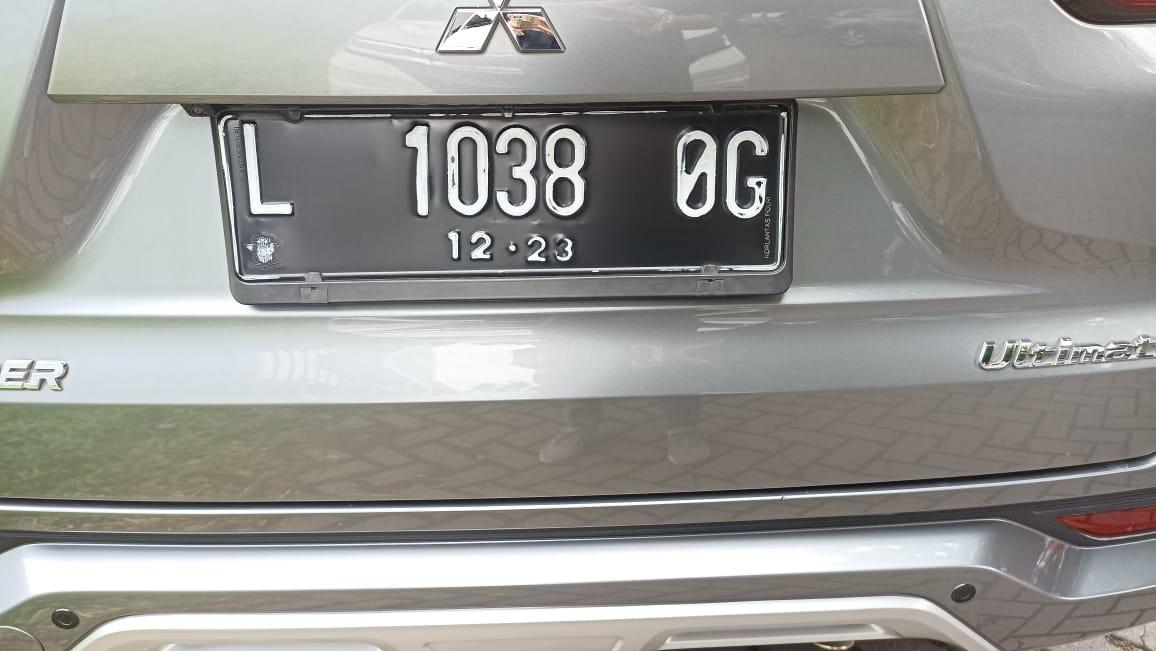plat: (214, 102, 795, 305)
